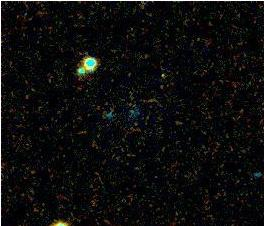star: (150, 60, 180, 90)
